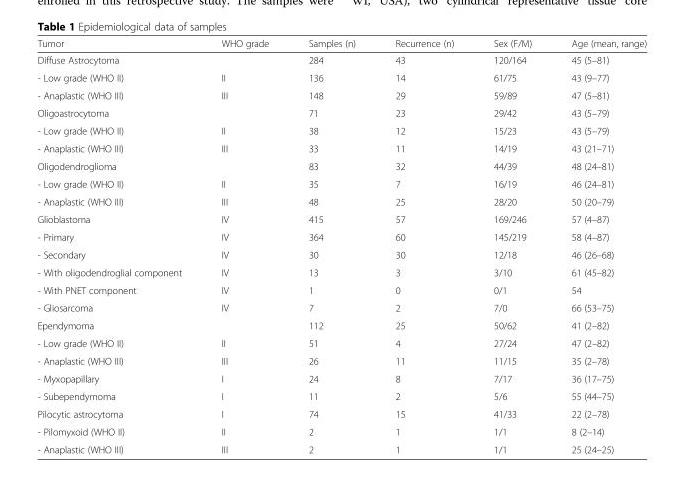table: (36, 37, 646, 454)
table column: (36, 37, 200, 454), (374, 37, 473, 454), (550, 37, 646, 454), (200, 37, 288, 454), (288, 37, 374, 454), (473, 37, 550, 454)
table column header: (36, 37, 646, 51)
table row: (36, 68, 646, 86), (36, 103, 646, 121), (36, 121, 646, 139), (36, 139, 646, 157), (36, 174, 646, 192), (36, 192, 646, 210), (36, 227, 646, 245), (36, 245, 646, 263), (36, 280, 646, 298), (36, 298, 646, 316), (36, 316, 646, 334), (36, 351, 646, 369), (36, 369, 646, 387), (36, 404, 646, 422), (36, 422, 646, 440), (36, 51, 646, 68), (36, 86, 646, 103), (36, 157, 646, 174), (36, 210, 646, 227), (36, 263, 646, 280), (36, 334, 646, 351), (36, 387, 646, 404), (36, 37, 646, 51), (36, 440, 646, 454)
